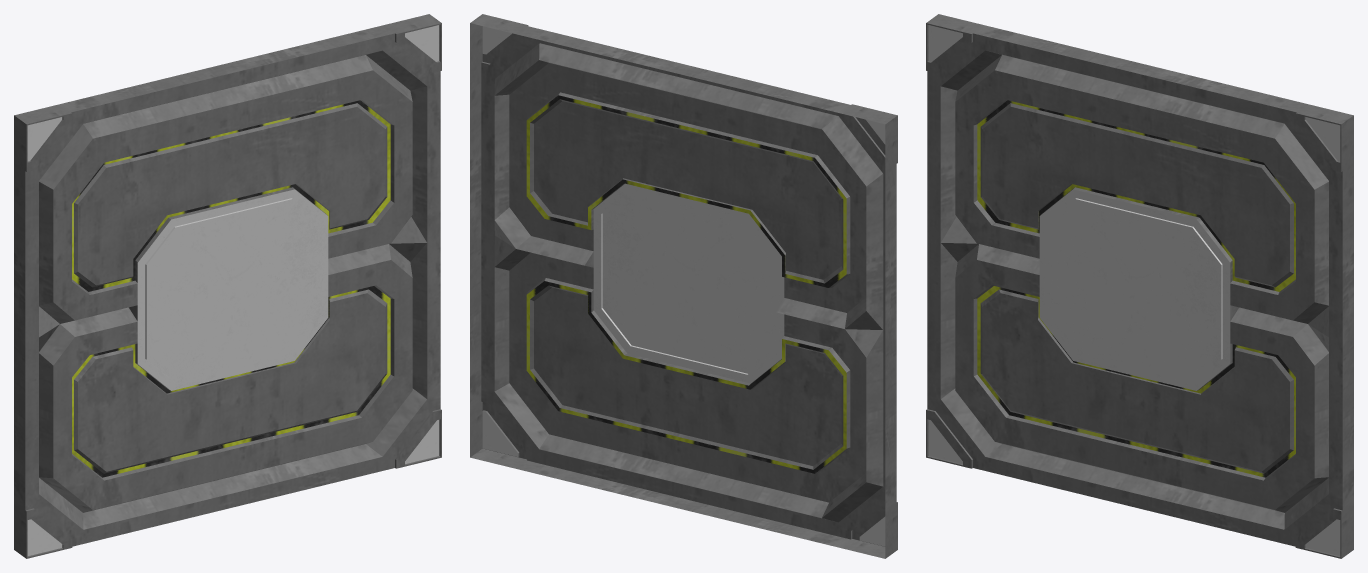
The model's file is Wall .fbx.
3 views of the same model, side by side, from view 1: azimuth 30°, elevation 25°; view 2: azimuth 150°, elevation 25°; view 3: azimuth 330°, elevation 25° (orthographic).
Parts seen in each view (by area): view 1: Plane.001; view 2: Plane.001; view 3: Plane.001.
Boxes of the visible parts, box(x1,y1,x2,y2) form: Plane.001: box(14, 14, 441, 558); Plane.001: box(470, 14, 897, 558); Plane.001: box(926, 14, 1353, 558).
Size of the model in its own units: 200 by 200 by 10.33.
1 material, 1 textured.
